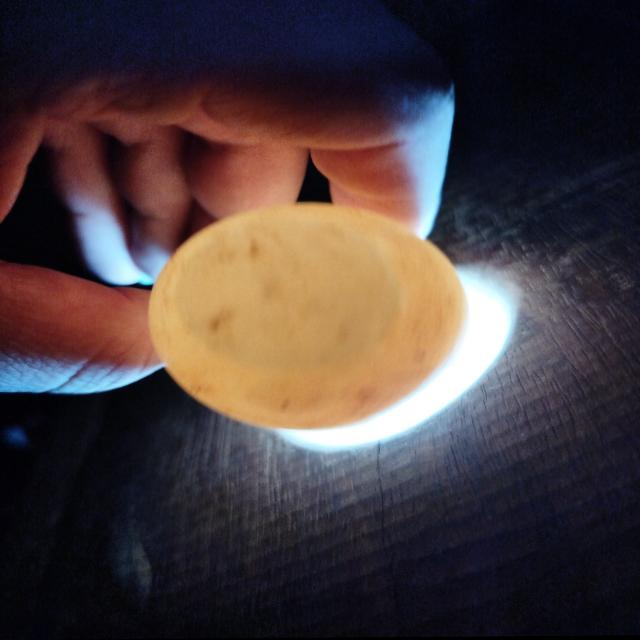Camara de Ar: (176, 212, 399, 375)
